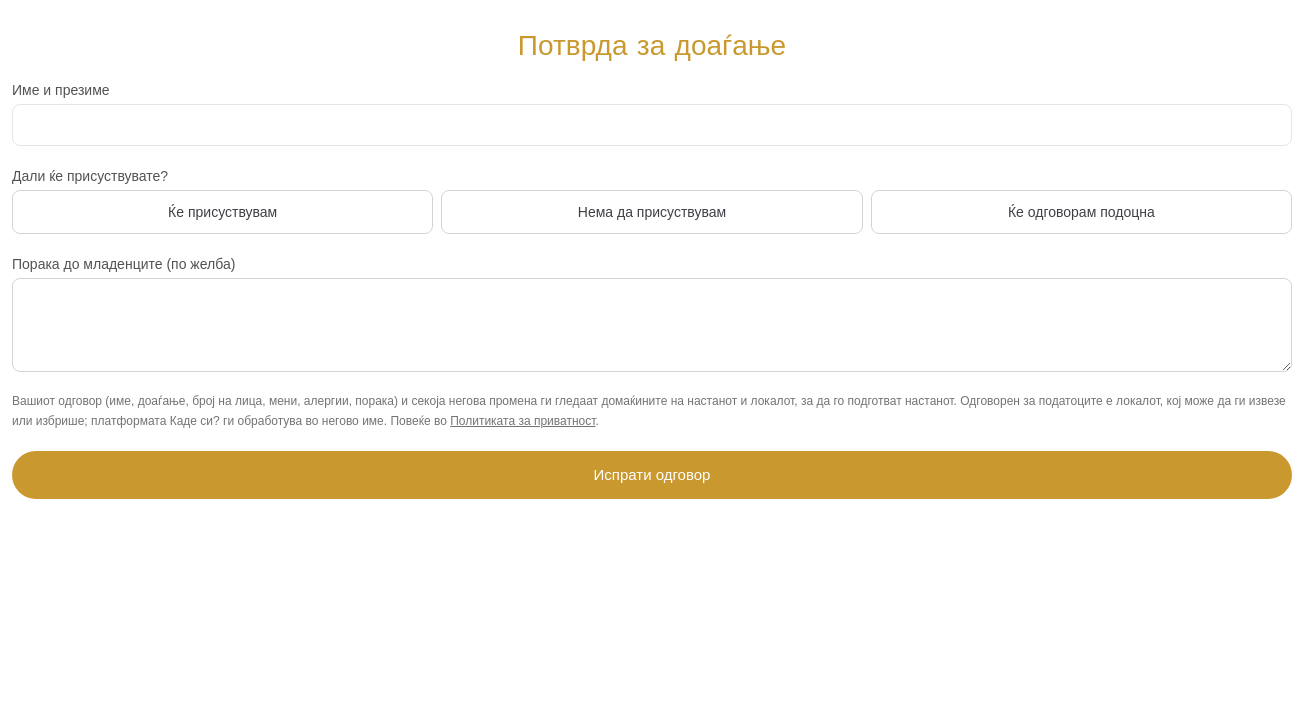
RsvpForm (A2-A5, A18) › requires choosing an answer before submitting
The width and height of the screenshot is (1304, 720).
Type "Ана Петровска" into the field labelled "Име и презиме" at coordinates (652, 125), box [12,104,1292,146]
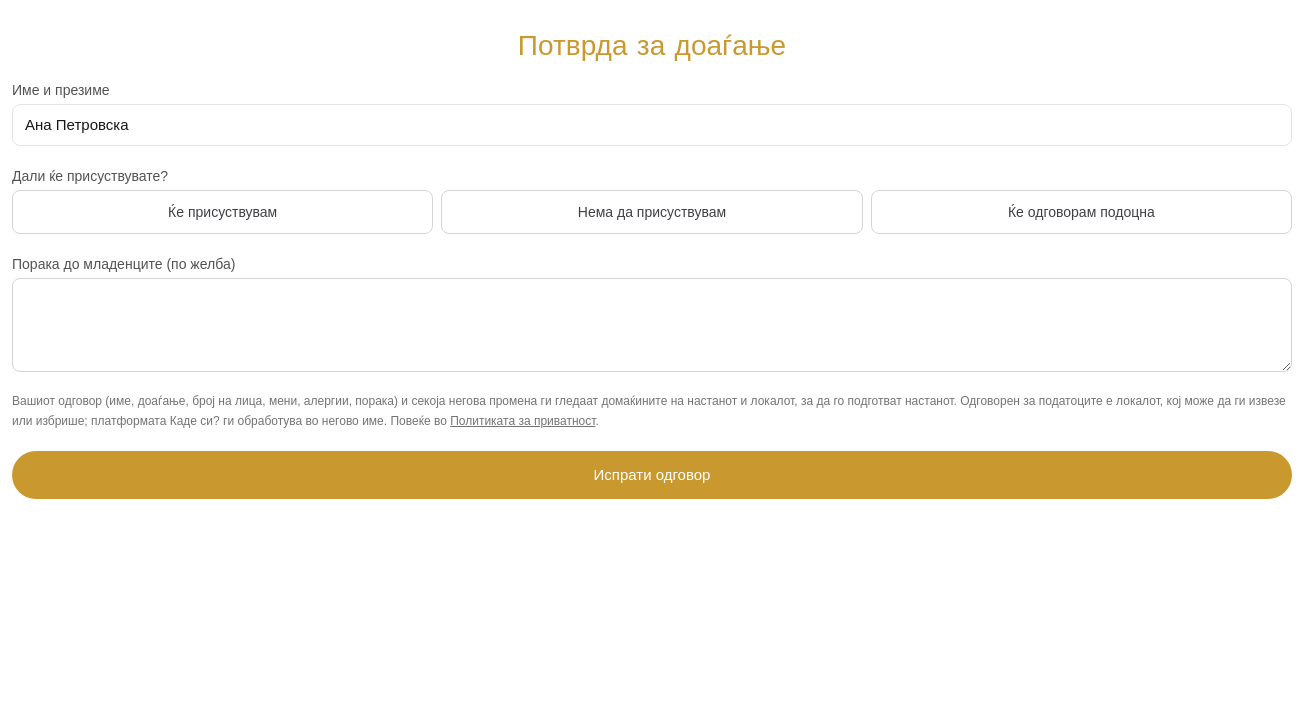
Click the button "Испрати одговор" at coordinates (652, 475), box [12,451,1292,499]
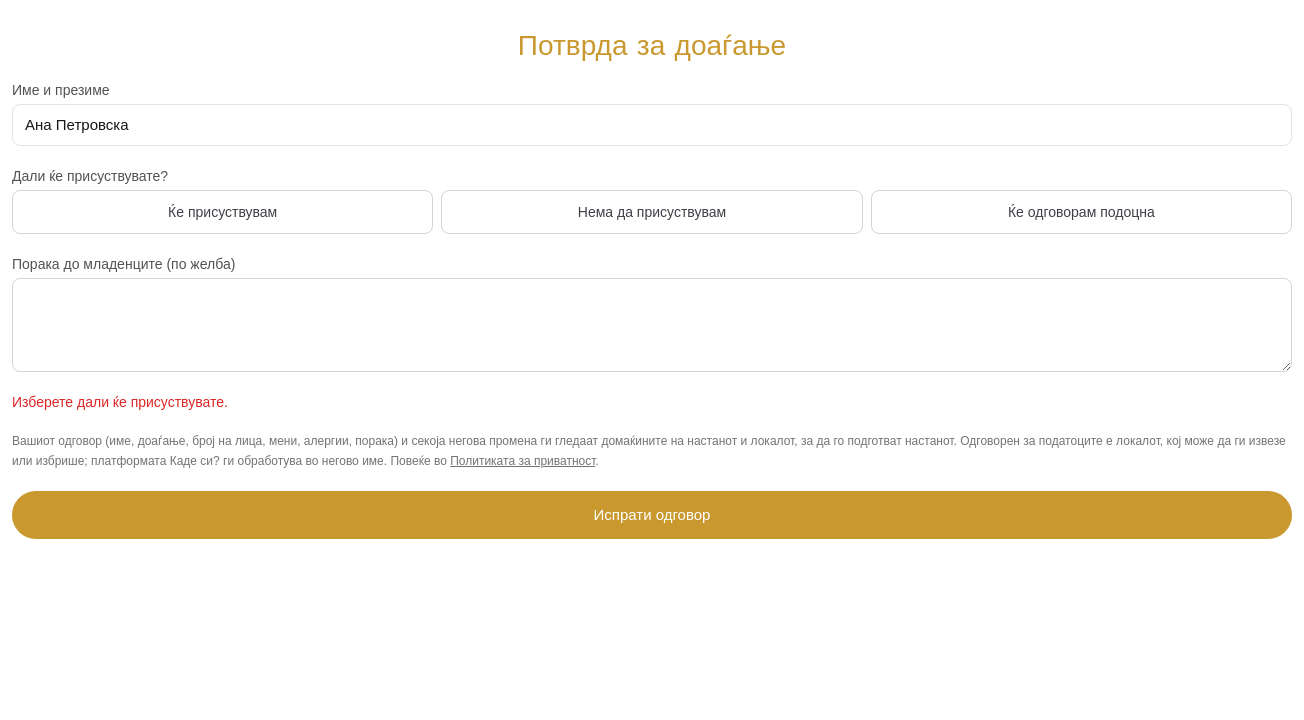
Now the text "Изберете дали ќе присуствувате." is shown, box [12,394,228,410]
